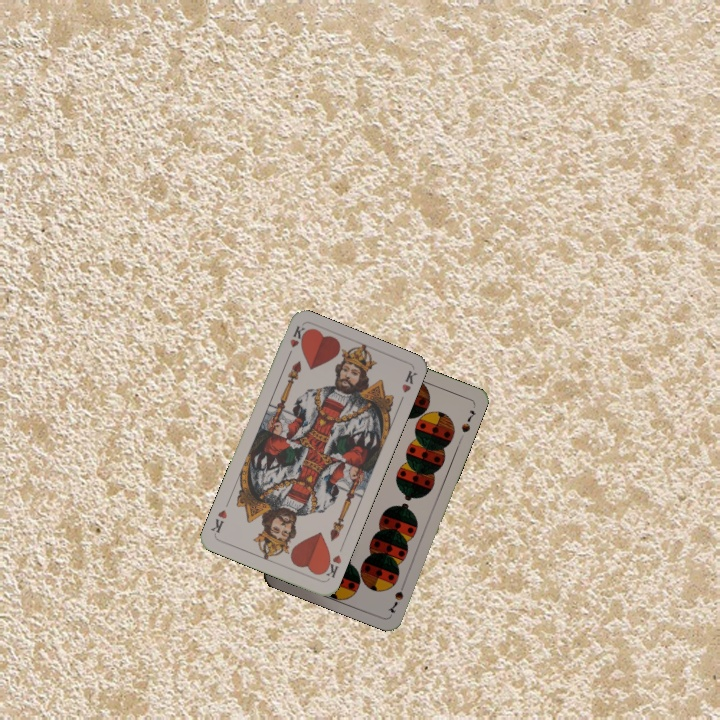HK: (283, 322, 308, 362), (319, 551, 344, 582)
S7: (384, 577, 408, 615)
